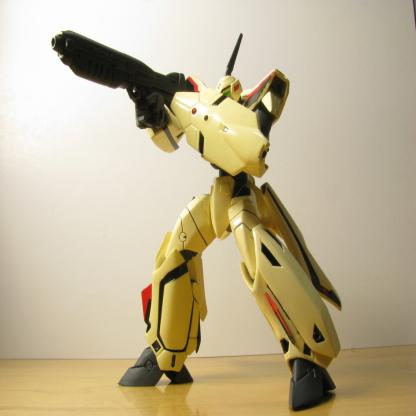Helmet: (216, 31, 244, 101)
